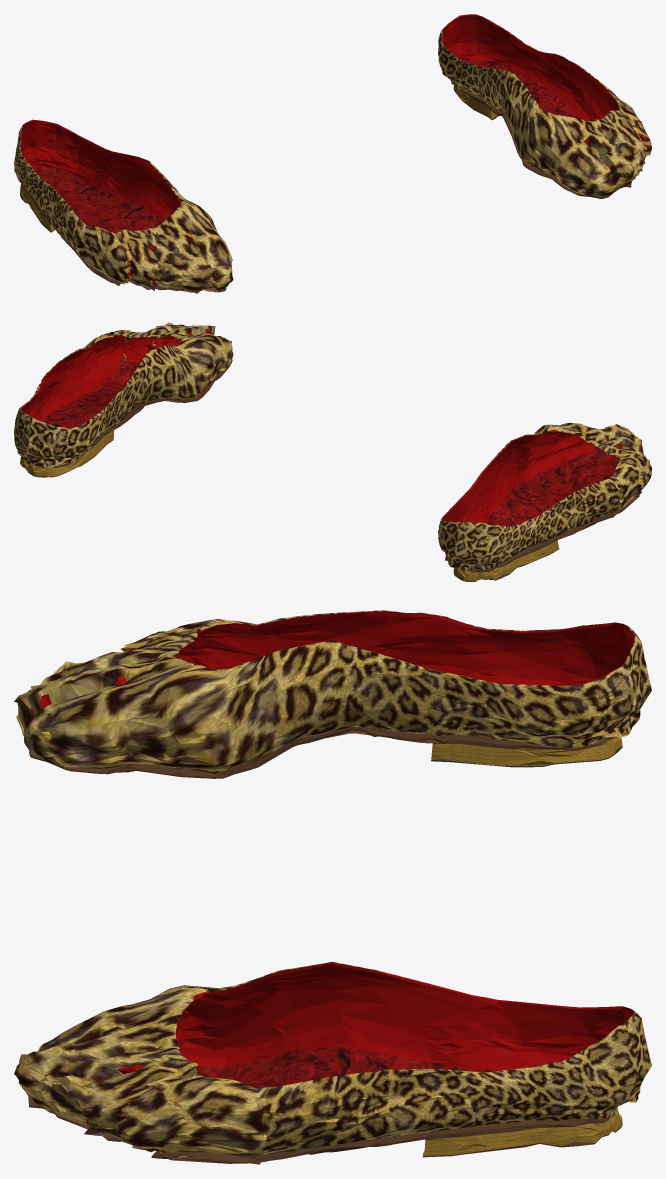
The model's file is mhw_toigo_flats.glb.
3 renders of one model, top to bottom at view 1: azimuth 30°, elevation 25°; view 2: azimuth 150°, elevation 25°; view 3: azimuth 270°, elevation 25°, orthographic. The views are drawn at different scales.
Parts seen in each view (by area): view 1: mhw_toigo_flats; view 2: mhw_toigo_flats; view 3: mhw_toigo_flats.
Part boxes in pixels (bbox=[...]): mhw_toigo_flats: bbox=[14, 14, 651, 293]; mhw_toigo_flats: bbox=[14, 322, 651, 581]; mhw_toigo_flats: bbox=[14, 610, 651, 1164].
Size of the model in its own units: 0.5396 by 0.0705 by 0.3017.
1 material, 1 textured.
